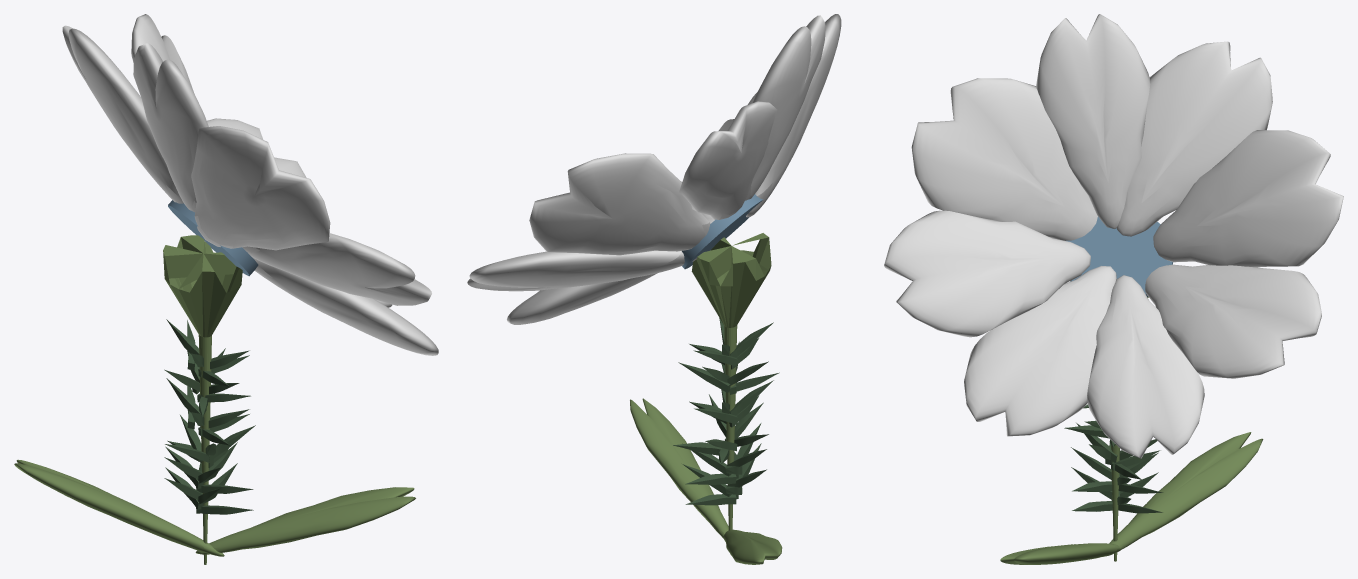
The model's file is ReflectFlower-model.fbx.
3 renders of one model, left to right at view 1: azimuth 30°, elevation 25°; view 2: azimuth 150°, elevation 25°; view 3: azimuth 270°, elevation 25°, orthographic. The views are drawn at different scales.
Visible parts, largest first — view 1: pasted__pasted__pSphere1 (×2), pasted__pSphere1 (×2), FlowerStem_stg2, pasted__pasted__pSphere2, pasted__pSphere2, pSphere1, pasted__pasted__pSphere4, FlowerPetals_stg2, pasted__pSphere3; view 2: pasted__pasted__pSphere4, pasted__pSphere2, pasted__pSphere3, FlowerStem_stg2, pasted__pasted__pSphere2, pasted__pasted__pSphere1 (×2), pasted__pSphere1, pasted__pSphere4, FlowerPetals_stg2; view 3: pasted__pasted__pSphere1 (×2), pasted__pSphere1 (×2), pasted__pasted__pSphere4, pasted__pSphere2, pasted__pasted__pSphere2, pSphere1, pasted__pSphere3, pasted__pSphere4, FlowerPetals_stg2, FlowerStem_stg2.
Boxes of the visible parts, x1,y1,x2,y2 form: pasted__pasted__pSphere1 (×2): (14,126,330,556); pasted__pSphere1 (×2): (195,233,431,554); FlowerStem_stg2: (163,235,242,564); pasted__pasted__pSphere2: (133,43,208,212); pasted__pSphere2: (62,25,183,203); pSphere1: (251,256,438,355); pasted__pasted__pSphere4: (131,14,193,91); FlowerPetals_stg2: (168,200,258,276); pasted__pSphere3: (204,118,306,241); pasted__pasted__pSphere4: (529,153,710,255); pasted__pSphere2: (679,101,777,219); pasted__pSphere3: (467,250,697,291); FlowerStem_stg2: (691,233,771,530); pasted__pasted__pSphere2: (745,15,825,200); pasted__pasted__pSphere1 (×2): (723,14,841,564); pasted__pSphere1: (630,398,728,538); pasted__pSphere4: (507,273,657,324); FlowerPetals_stg2: (682,194,763,269); pasted__pasted__pSphere1 (×2): (911,78,1263,556); pasted__pSphere1 (×2): (884,210,1120,564); pasted__pasted__pSphere4: (1153,130,1343,267); pasted__pSphere2: (1117,41,1272,236); pasted__pasted__pSphere2: (1036,14,1150,228); pSphere1: (964,266,1116,436); pasted__pSphere3: (1145,264,1321,378); pasted__pSphere4: (1087,275,1204,458); FlowerPetals_stg2: (1066,216,1173,296); FlowerStem_stg2: (1111,296,1148,561).
Size of the model in its own units: 4.68 by 7.46 by 6.03.
